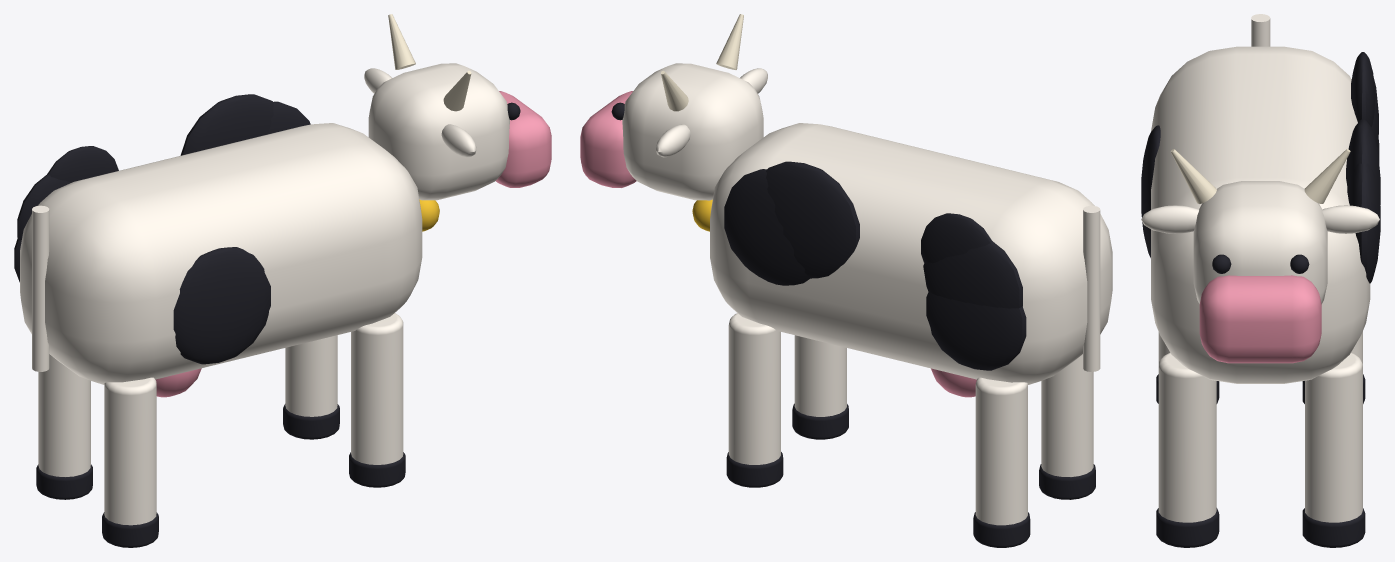
Rendered from cow.glb.
3 renders of one model, left to right at view 1: azimuth 30°, elevation 25°; view 2: azimuth 150°, elevation 25°; view 3: azimuth 270°, elevation 25°, orthographic. The views are drawn at different scales.
Parts seen in each view (by area): view 1: cow; view 2: cow; view 3: cow.
Part boxes in pixels (x1,y1,x2,y2): cow: (14, 14, 551, 547); cow: (580, 14, 1112, 547); cow: (1141, 14, 1380, 547).
Size of the model in its own units: 2.64 by 1.96 by 0.9829.
Materials: 1 (1 with a texture image).
